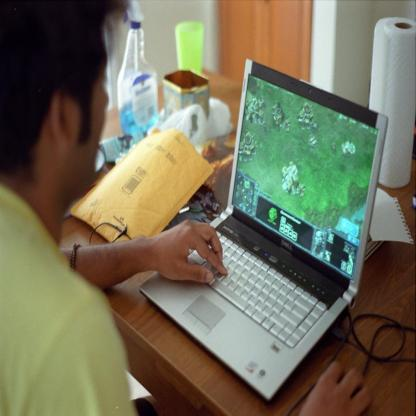board: (139, 64, 390, 406), (116, 0, 157, 149), (178, 21, 204, 75)
